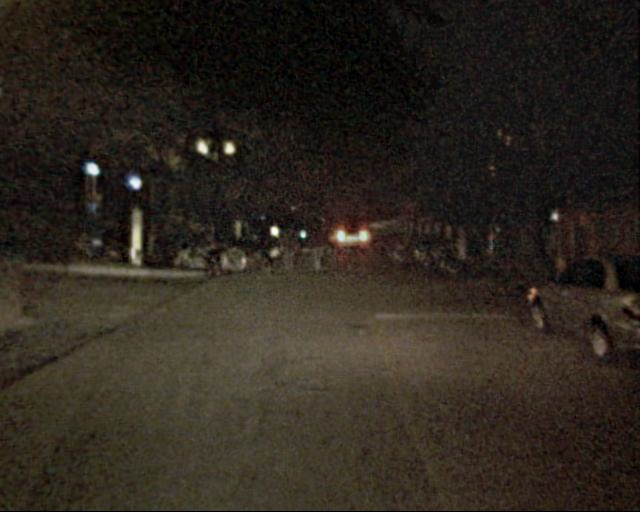person: (200, 219, 225, 279), (308, 223, 329, 276), (253, 219, 275, 267), (277, 224, 298, 272)
